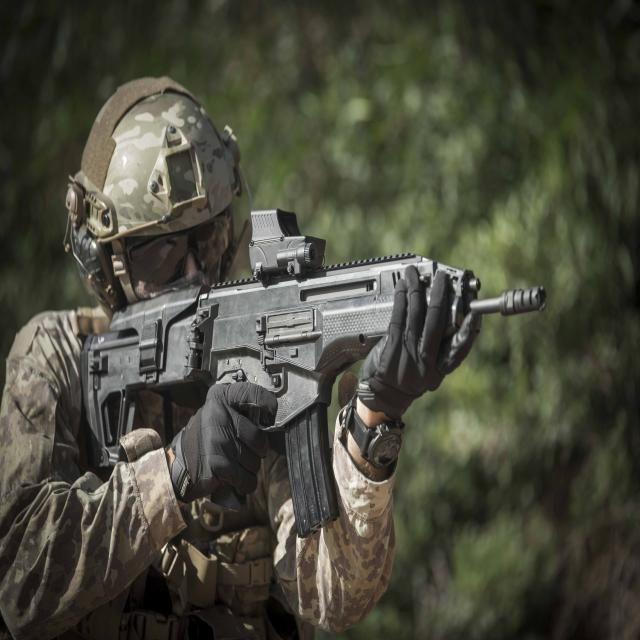Rifle: (82, 211, 546, 538)
